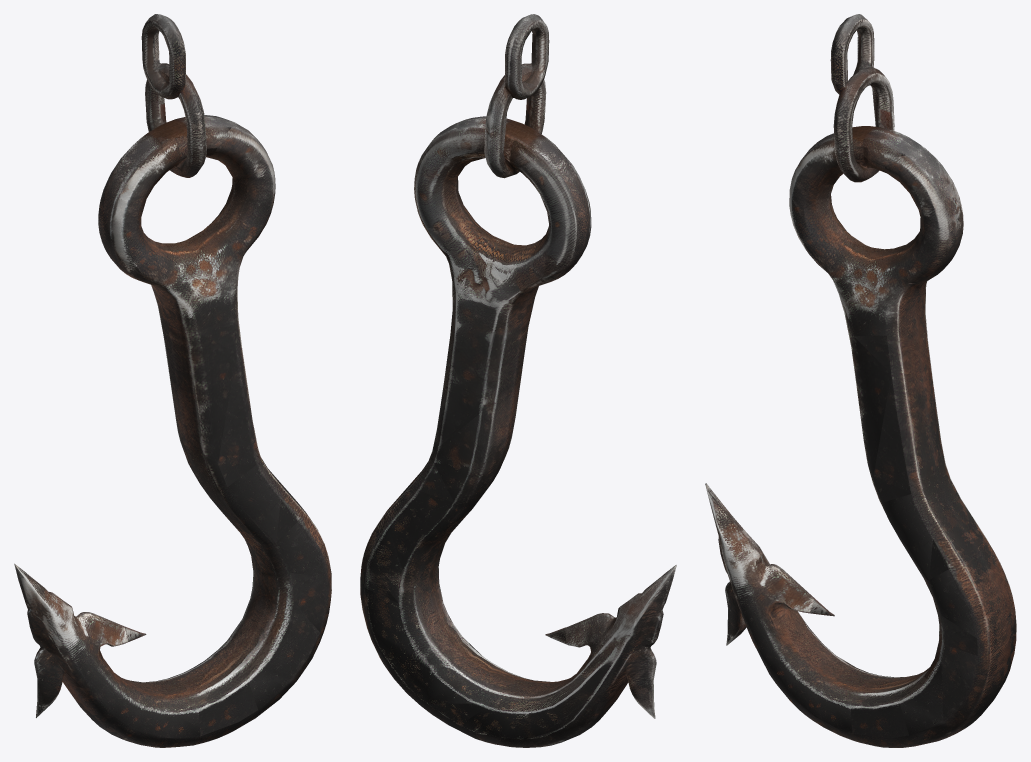
The model's file is Crochet.fbx.
The picture shows the model from 3 angles, left to right: view 1: azimuth 30°, elevation 25°; view 2: azimuth 150°, elevation 25°; view 3: azimuth 330°, elevation 25°; orthographic projection.
Visible parts, largest first — view 1: Mesh_0; view 2: Mesh_0; view 3: Mesh_0.
Boxes of the visible parts, box(x1,y1,x2,y2) form: Mesh_0: box(14, 14, 331, 747); Mesh_0: box(360, 14, 676, 747); Mesh_0: box(705, 14, 1016, 747).
Size of the model in its own units: 83.62 by 190 by 24.18.
1 material, 1 textured.
